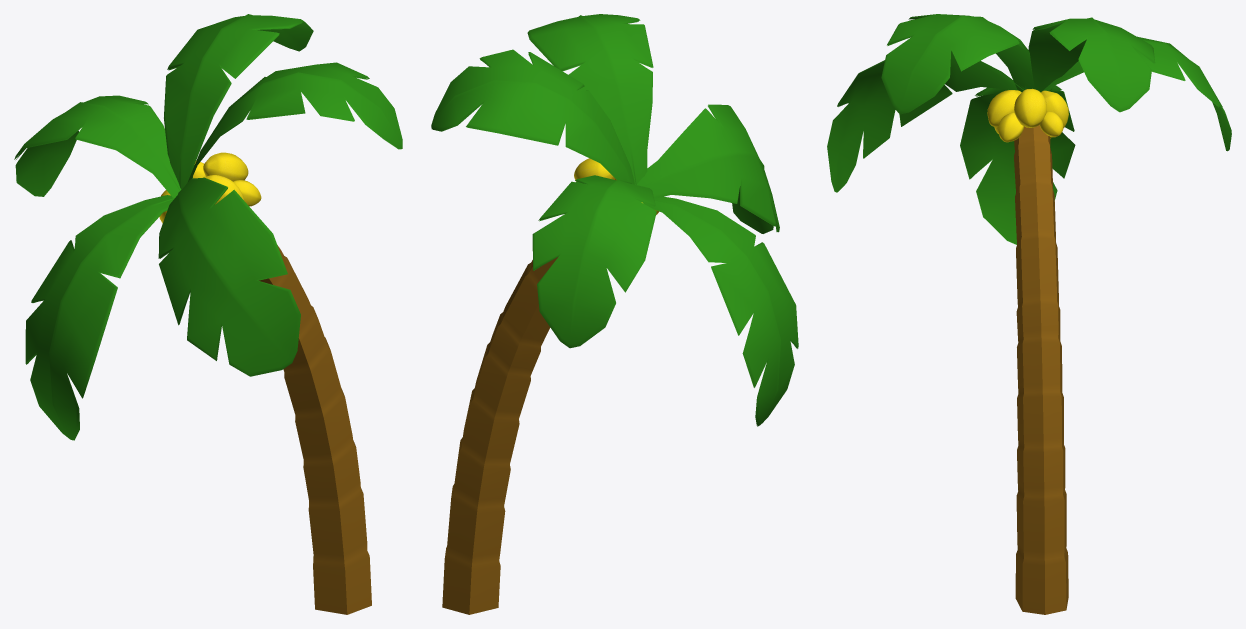
Rendered from re_lemon.fbx.
The picture shows the model from 3 angles, left to right: view 1: azimuth 30°, elevation 25°; view 2: azimuth 150°, elevation 25°; view 3: azimuth 270°, elevation 25°; orthographic projection. The views are drawn at different scales.
Parts seen in each view (by area): view 1: polySurface17, fruit:pSphere7; view 2: polySurface17, fruit:pSphere7; view 3: polySurface17, fruit:pSphere7.
Boxes of the visible parts, x1=… form: polySurface17: x1=14, y1=14, x2=402, y2=614; fruit:pSphere7: x1=159, y1=152, x2=261, y2=223; polySurface17: x1=431, y1=14, x2=798, y2=614; fruit:pSphere7: x1=574, y1=158, x2=659, y2=214; polySurface17: x1=827, y1=14, x2=1231, y2=614; fruit:pSphere7: x1=987, y1=88, x2=1068, y2=142.
Size of the model in its own units: 225 by 379 by 253.
